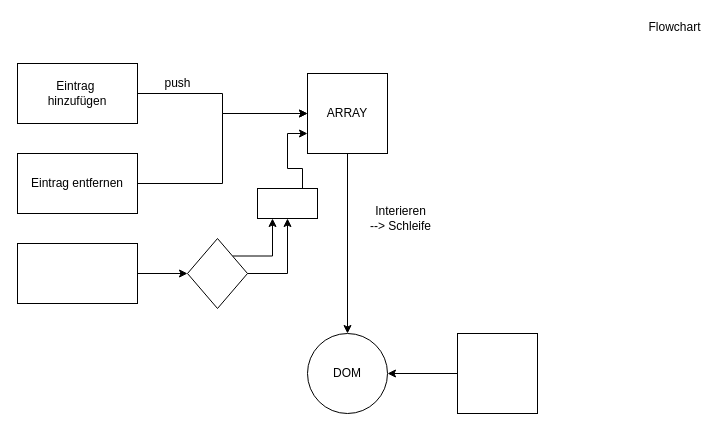
Some shapes in this 727 by 431 pixel diagram are drawn without their labels. The centre of each missing label's shape, as x and y in pixels:
Abhaken, Haken entfernen: point (77, 273)
Array.length: point (497, 373)
